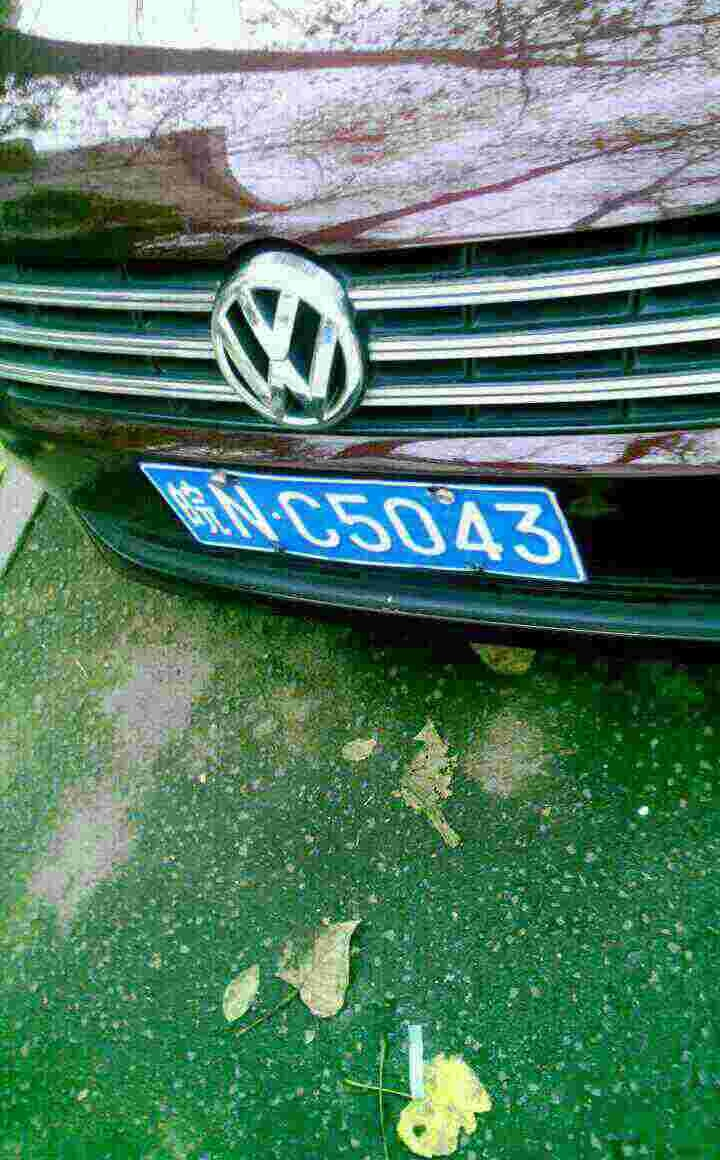license_plate: (153, 468, 584, 567)
